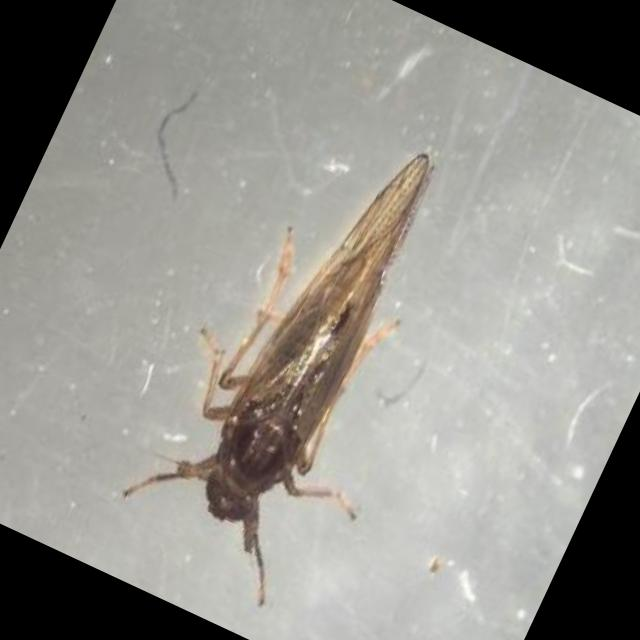brown-planthopper: (110, 89, 476, 589)
